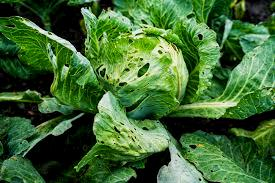Bok-Choy-Diseased: (179, 133, 275, 183), (0, 16, 82, 73), (95, 93, 164, 155)
